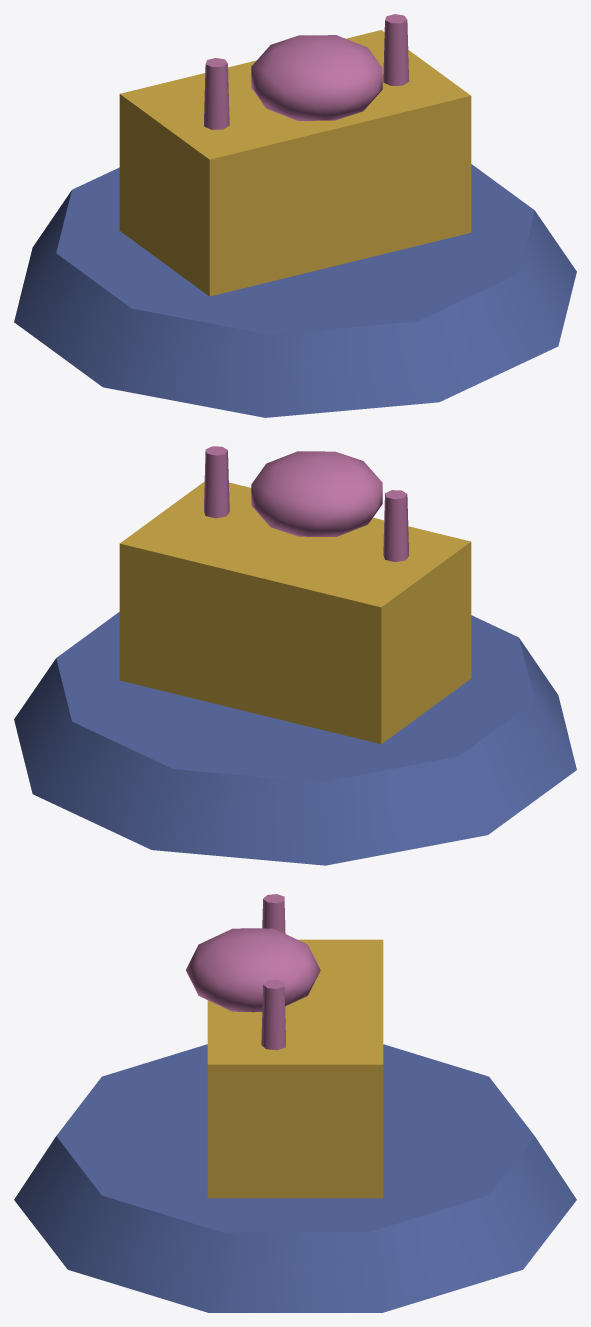
Rendered from sanctuary.glb.
3 renders of one model, top to bottom at view 1: azimuth 30°, elevation 25°; view 2: azimuth 150°, elevation 25°; view 3: azimuth 270°, elevation 25°, orthographic. The views are drawn at different scales.
Parts seen in each view (by area): view 1: base, altar, emblem, candle_-1, candle_1; view 2: base, altar, emblem, candle_1, candle_-1; view 3: base, altar, emblem, candle_1, candle_-1.
Boxes of the visible parts, bbox=[...] form: base: bbox=[14, 164, 576, 417]; altar: bbox=[119, 30, 471, 296]; emblem: bbox=[251, 35, 382, 120]; candle_-1: bbox=[204, 58, 229, 129]; candle_1: bbox=[383, 14, 409, 85]; base: bbox=[14, 612, 576, 865]; altar: bbox=[119, 481, 471, 744]; emblem: bbox=[251, 451, 382, 536]; candle_1: bbox=[204, 446, 229, 518]; candle_-1: bbox=[383, 490, 409, 561]; base: bbox=[14, 1044, 576, 1312]; altar: bbox=[207, 939, 383, 1198]; emblem: bbox=[186, 928, 320, 1012]; candle_1: bbox=[261, 979, 285, 1050]; candle_-1: bbox=[262, 894, 285, 933].
Size of what is drawn, in the model's own units: 3.8 by 2.06 by 4.
